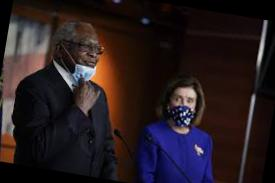mask_weared_incorrect: (70, 34, 108, 81)
with_mask: (170, 91, 198, 119)
